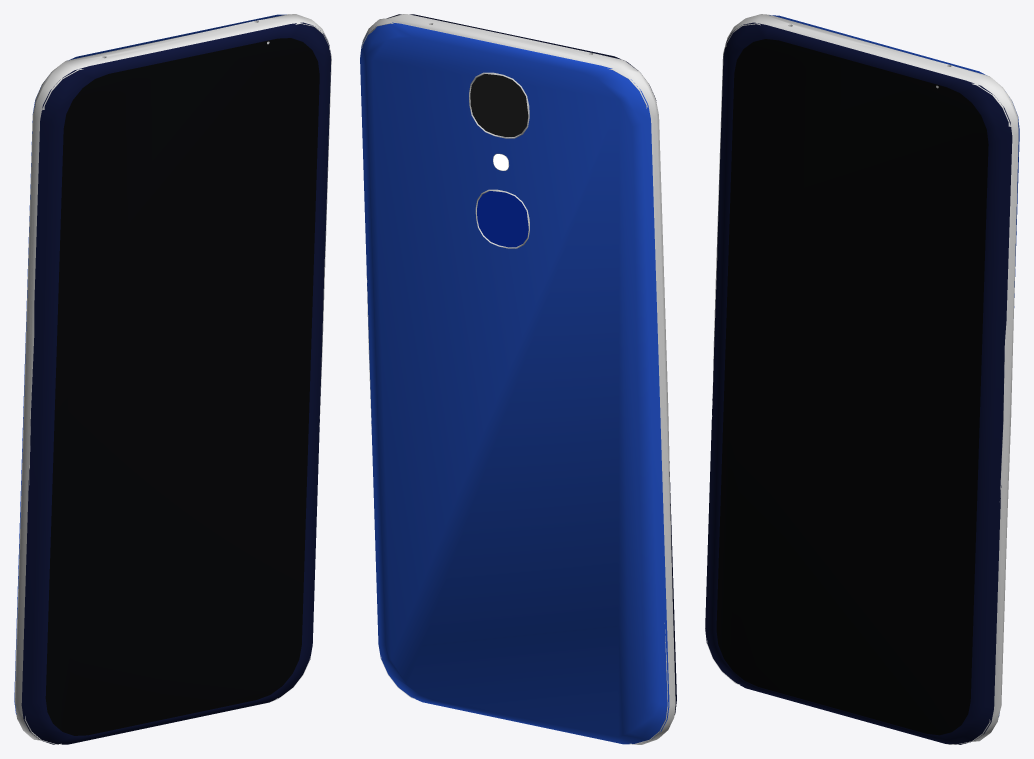
File: dev-smartphone_lod2.glb
The picture shows the model from 3 angles, left to right: view 1: azimuth 30°, elevation 25°; view 2: azimuth 150°, elevation 25°; view 3: azimuth 330°, elevation 25°; orthographic projection.
Visible parts, largest first — view 1: body; view 2: body; view 3: body.
Part boxes in pixels (<box>): body: <box>14,14,331,744</box>; body: <box>360,14,676,744</box>; body: <box>705,14,1019,744</box>.
Size of the model in its own units: 0.0761 by 0.1577 by 0.00874.
